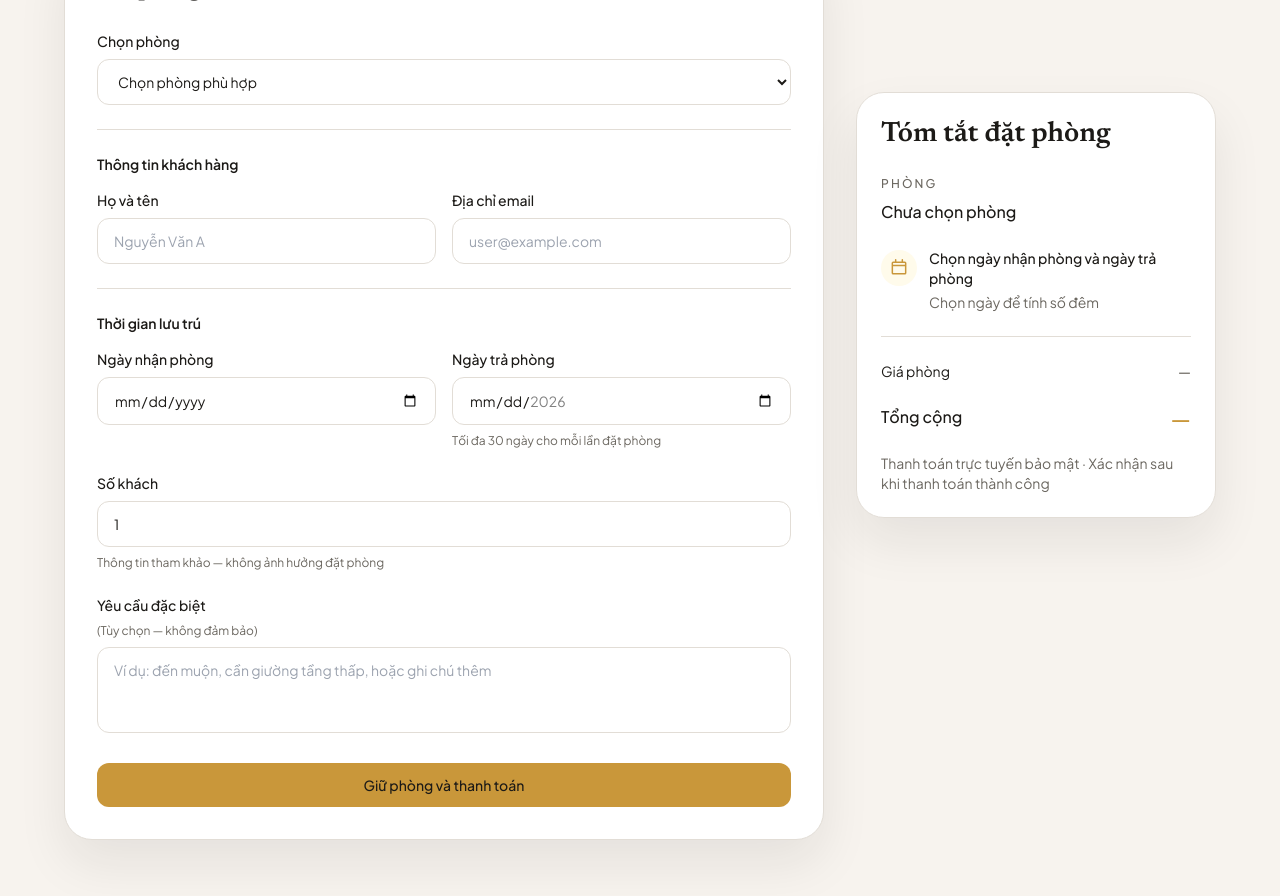
it: BookingForm › renders validation errors returned by the validator
This screenshot has width=1280, height=896.
(page scrolled)
Click the button "Giữ phòng và thanh toán".
click(444, 785)  # box x1=97 y1=763 x2=791 y2=807
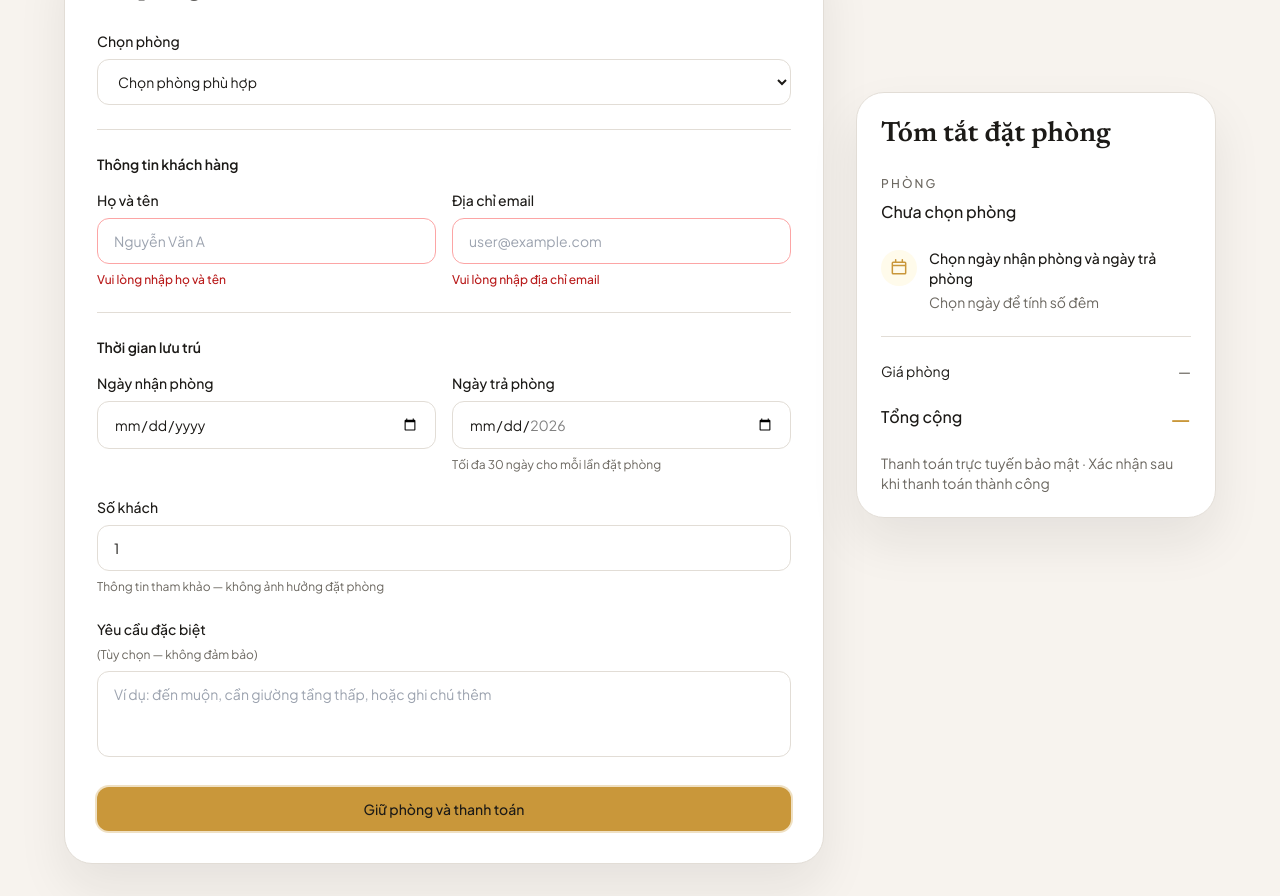
Result: the text "Vui lòng nhập họ và tên" is shown at x1=97 y1=272 x2=226 y2=287
Result: the text "Vui lòng nhập địa chỉ email" is shown at x1=452 y1=272 x2=600 y2=287
